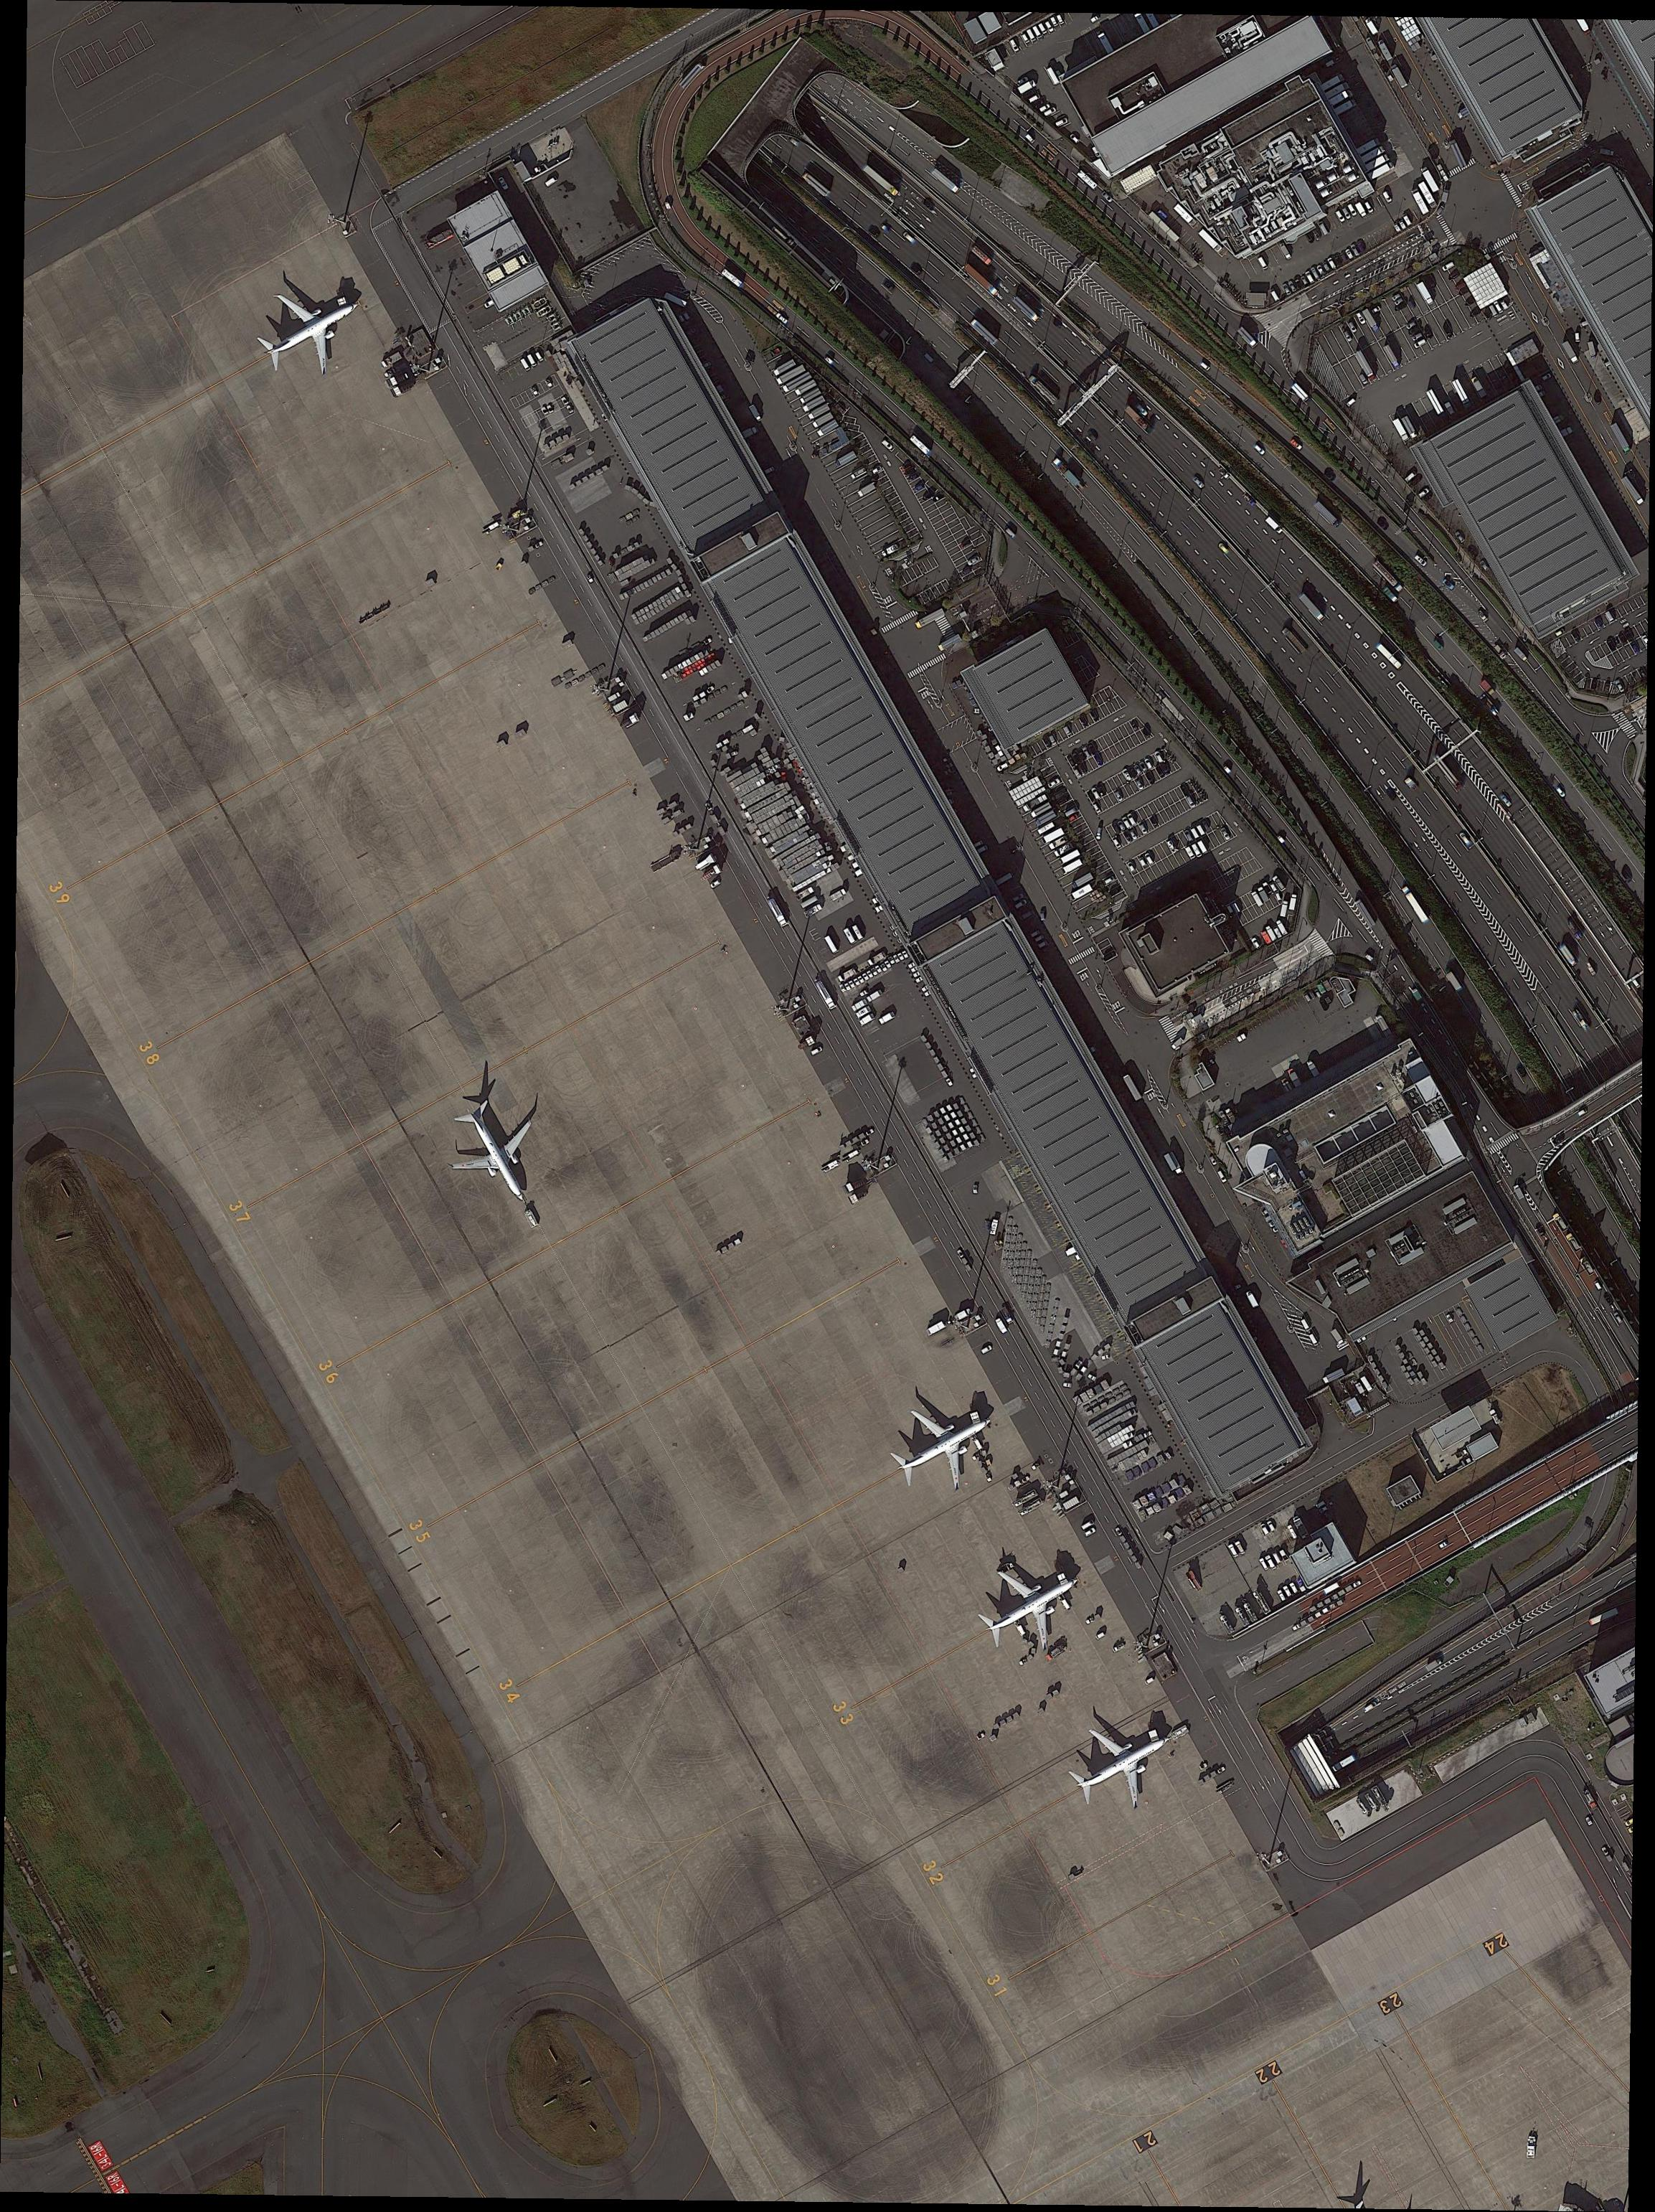plane: (861, 1367, 1029, 1525), (1043, 1687, 1196, 1840), (947, 1530, 1100, 1676), (422, 1083, 567, 1228), (242, 259, 382, 402)
